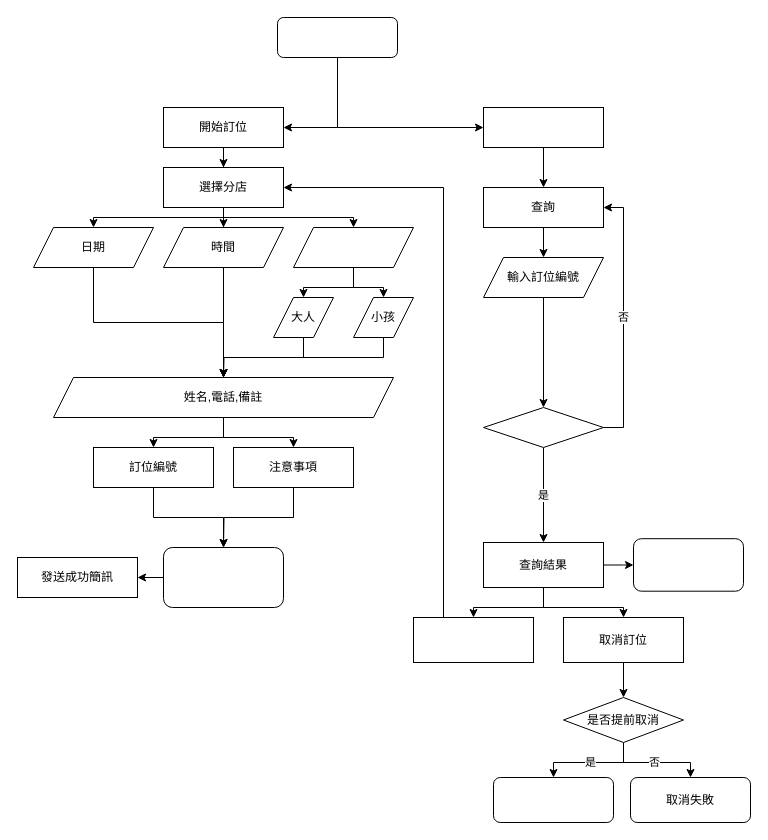
Image size: 768x840. Some labels were removed from this diagram. The box of each missing label's shape, as (x1, y1, x2, y2) in pixels:
人數: (292, 226, 414, 268)
修改訂位: (412, 616, 534, 662)
取消成功: (492, 776, 614, 822)
是否成功: (482, 406, 604, 448)
查詢/修改/取消訂位: (482, 106, 604, 148)
訂位成功: (162, 546, 284, 608)
訂位首頁: (276, 16, 398, 58)
離開: (632, 538, 744, 591)
